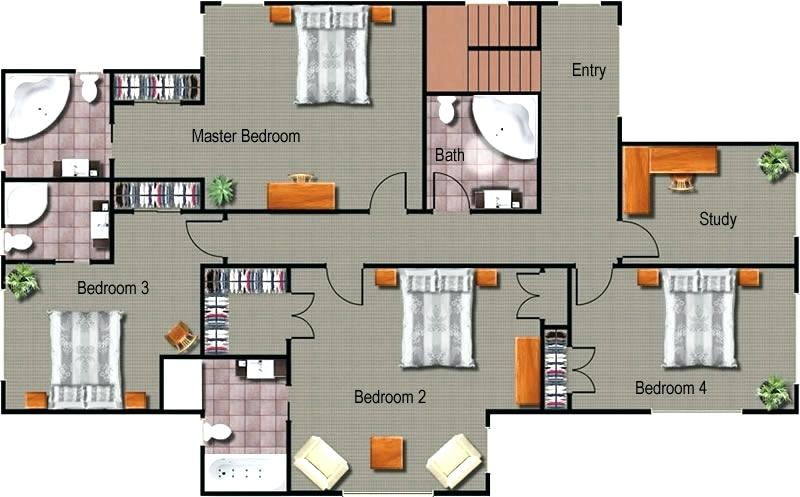door: (362, 166, 410, 206), (426, 168, 474, 208), (289, 286, 322, 342), (507, 269, 540, 325), (625, 217, 665, 261), (573, 268, 613, 312), (323, 269, 368, 308), (183, 216, 221, 260), (574, 342, 604, 397)
room: (201, 1, 426, 213), (285, 262, 488, 496), (567, 264, 799, 414), (1, 257, 206, 415), (422, 90, 542, 213)
